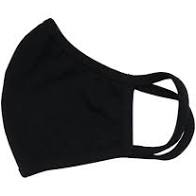cloth_mask: (1, 16, 196, 182)
